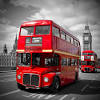bus: (14, 18, 81, 93), (79, 49, 99, 75)
